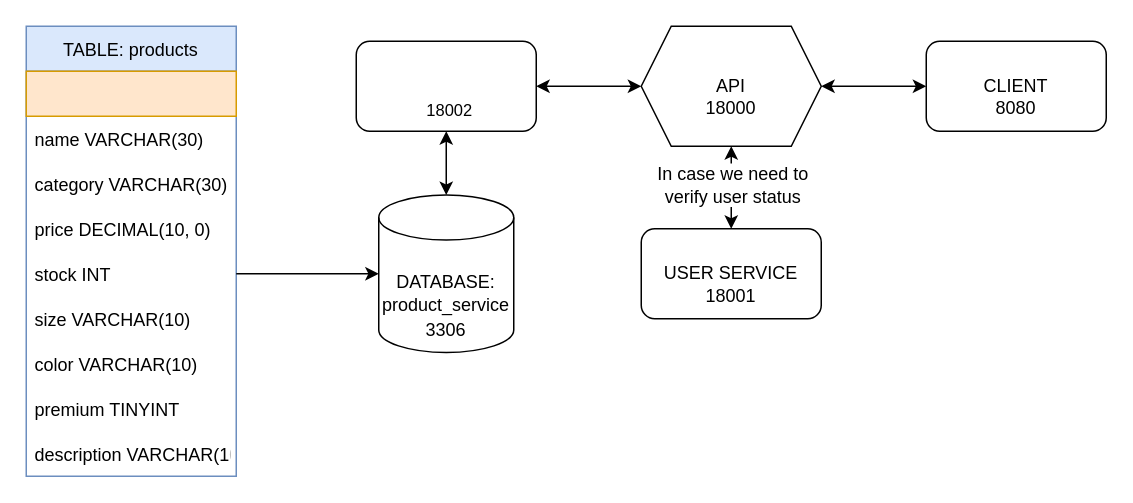
Some shapes in this 1133 by 503 pixel diagram are drawn without their labels. Each missing label, with the centre of its shape:
id INT: the point at 130,93
PRODUCT SERVICE: the point at 445,85
